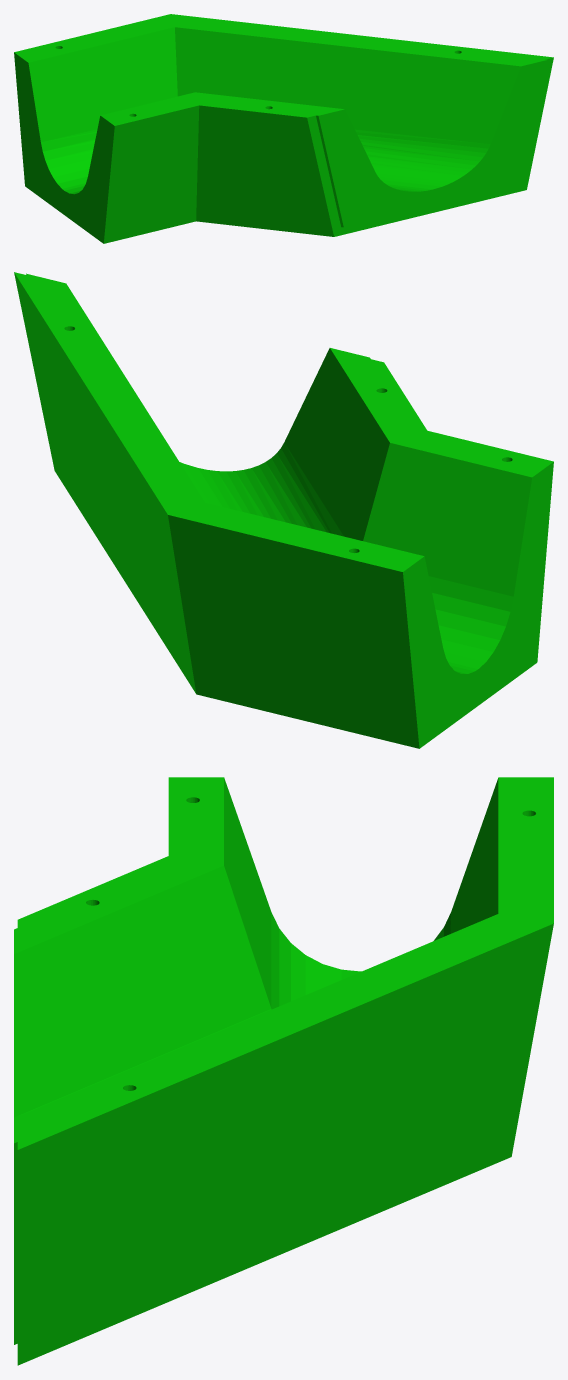
The model's file is piece3.dae.
3 views of the same model, one above another, from view 1: azimuth 30°, elevation 25°; view 2: azimuth 150°, elevation 25°; view 3: azimuth 270°, elevation 25° (orthographic). The views are drawn at different scales.
Visible parts, largest first — view 1: ShapeIndexedFaceSet_007; view 2: ShapeIndexedFaceSet_007; view 3: ShapeIndexedFaceSet_007.
Part boxes in pixels (x1,y1,x2,y2): ShapeIndexedFaceSet_007: (14,14,553,243); ShapeIndexedFaceSet_007: (14,272,553,748); ShapeIndexedFaceSet_007: (14,777,553,1365).
Bounding box in the file's own units: 1.03 × 0.6297 × 0.31.
